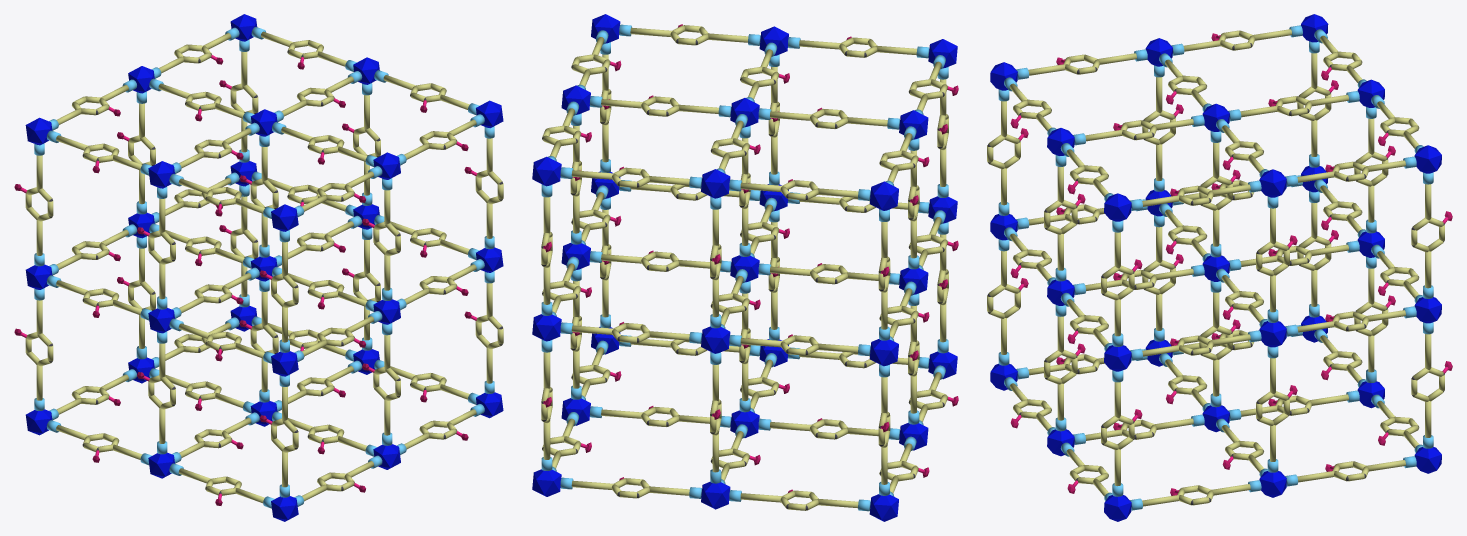
File: crystal.glb
3 renders of one model, left to right at view 1: azimuth 30°, elevation 25°; view 2: azimuth 150°, elevation 25°; view 3: azimuth 270°, elevation 25°, orthographic. The views are drawn at different scales.
Parts seen in each view (by area): view 1: ZrNode.020, ZrNode.018, ZrNode.019; view 2: ZrNode.005, ZrNode.002, ZrNode.008, ZrNode.004, ZrNode.001, ZrNode.006, ZrNode.007, ZrNode.003, ZrNode, ZrNode.020, ZrNode.014, ZrNode.026 (+11 smaller); view 3: ZrNode.026, ZrNode.008, ZrNode.017, ZrNode.024, ZrNode.025, ZrNode.015, ZrNode.007, ZrNode.006, ZrNode.016, ZrNode.020, ZrNode.023.
Part boxes in pixels (x1,y1,x2,y2): ZrNode.020: (271,204,298,231); ZrNode.018: (271,496,298,521); ZrNode.019: (271,351,298,376); ZrNode.005: (701,169,730,198); ZrNode.002: (869,181,898,210); ZrNode.008: (532,156,561,186); ZrNode.004: (701,326,730,353); ZrNode.001: (869,339,898,366); ZrNode.006: (532,469,561,496); ZrNode.007: (532,314,561,341); ZrNode.003: (701,482,730,509); ZrNode: (869,494,898,521); ZrNode.020: (928,39,957,68); ZrNode.014: (730,98,759,127); ZrNode.026: (591,14,620,43); ZrNode.026: (1104,193,1131,221); ZrNode.008: (1414,145,1441,173); ZrNode.017: (1259,169,1286,197); ZrNode.024: (1104,495,1131,521); ZrNode.025: (1104,345,1131,371); ZrNode.015: (1259,471,1286,497); ZrNode.007: (1414,297,1441,323); ZrNode.006: (1414,447,1441,473); ZrNode.016: (1259,321,1286,347); ZrNode.020: (990,62,1017,90); ZrNode.023: (1047,128,1074,155).
Size of the model in its own units: 8.24 by 6.55 by 8.41.
